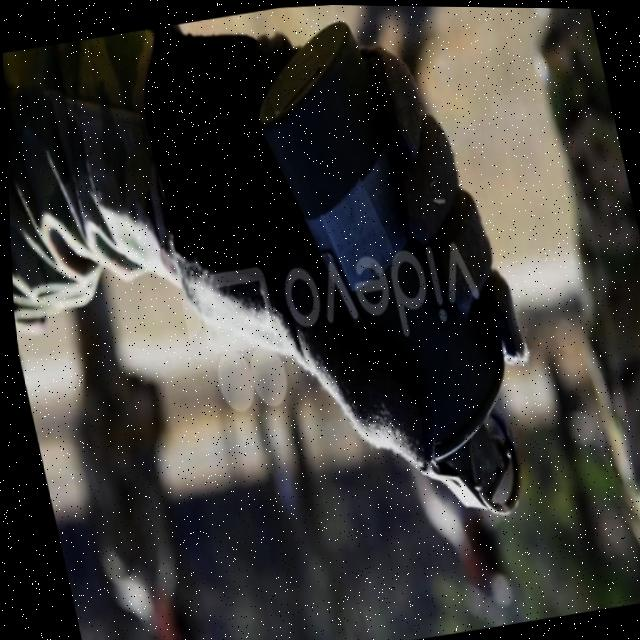grenade: (228, 3, 548, 543)
